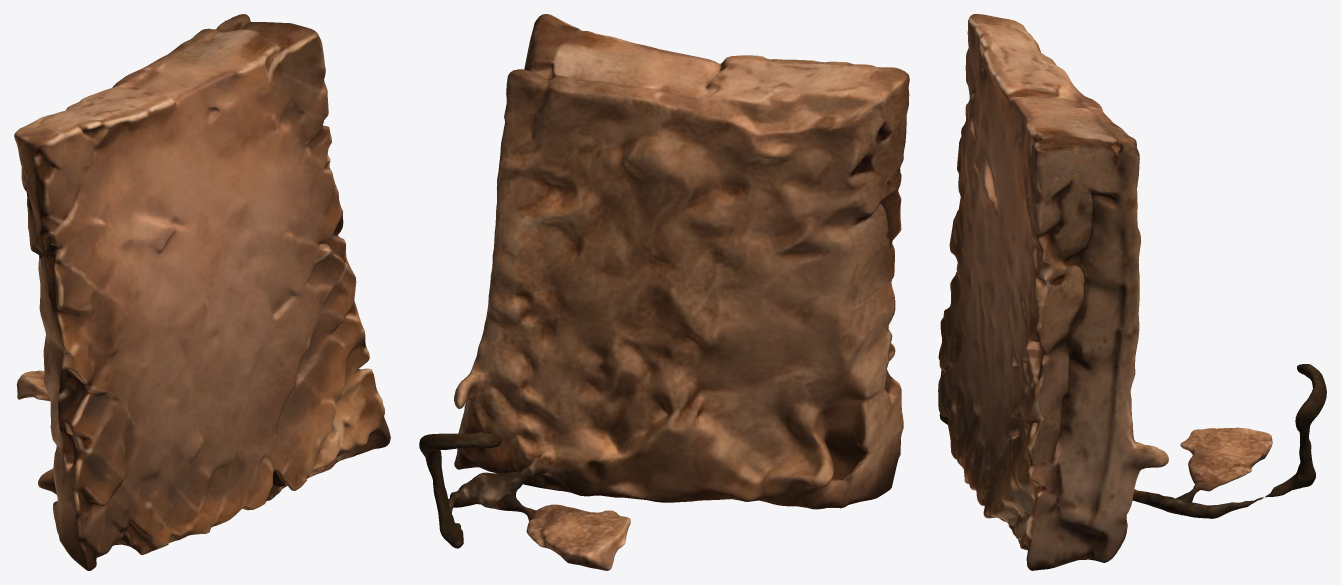
File: agatha_recipe.glb
3 views of the same model, side by side, from view 1: azimuth 30°, elevation 25°; view 2: azimuth 150°, elevation 25°; view 3: azimuth 270°, elevation 25° (orthographic). The views are drawn at different scales.
Bounding box in the file's own units: 0.7529 × 0.8146 × 0.7121.
1 material, 1 textured.
